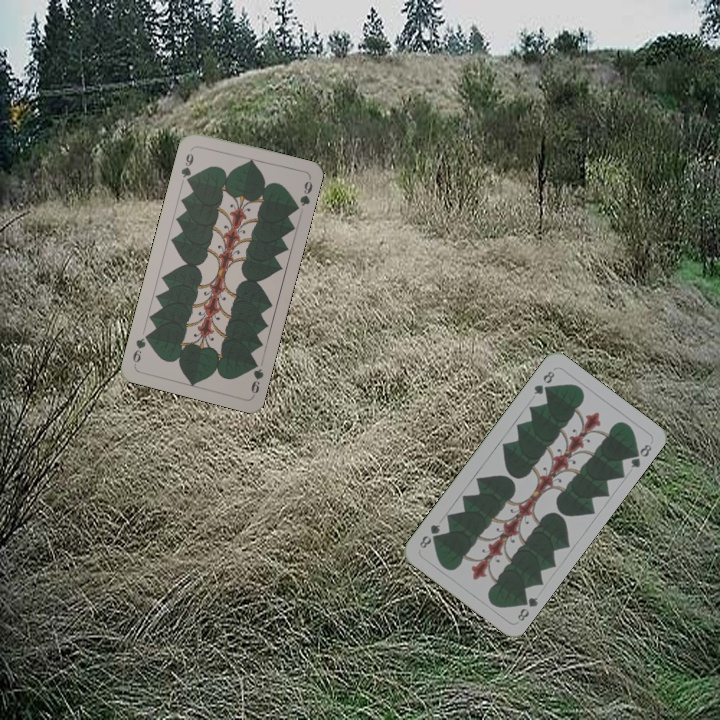G8: (513, 592, 540, 624), (530, 367, 557, 397)
G9: (247, 356, 266, 398), (177, 145, 196, 186)
